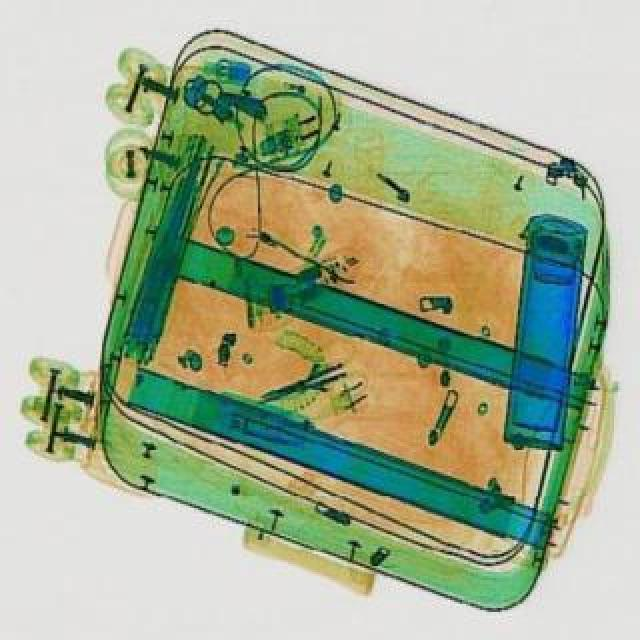knife: (252, 352, 348, 412)
